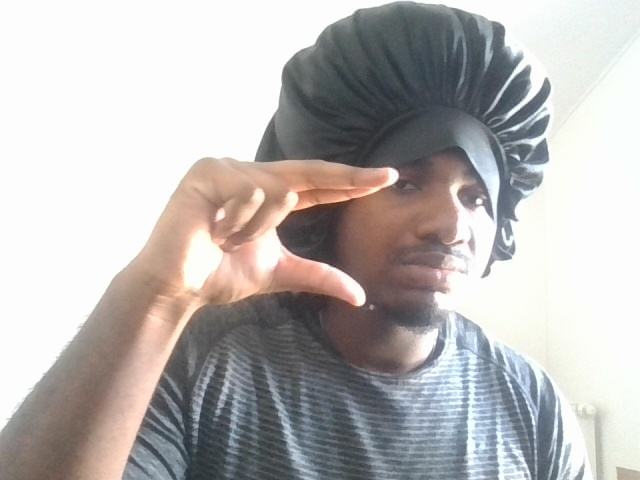No: (78, 122, 403, 341)
